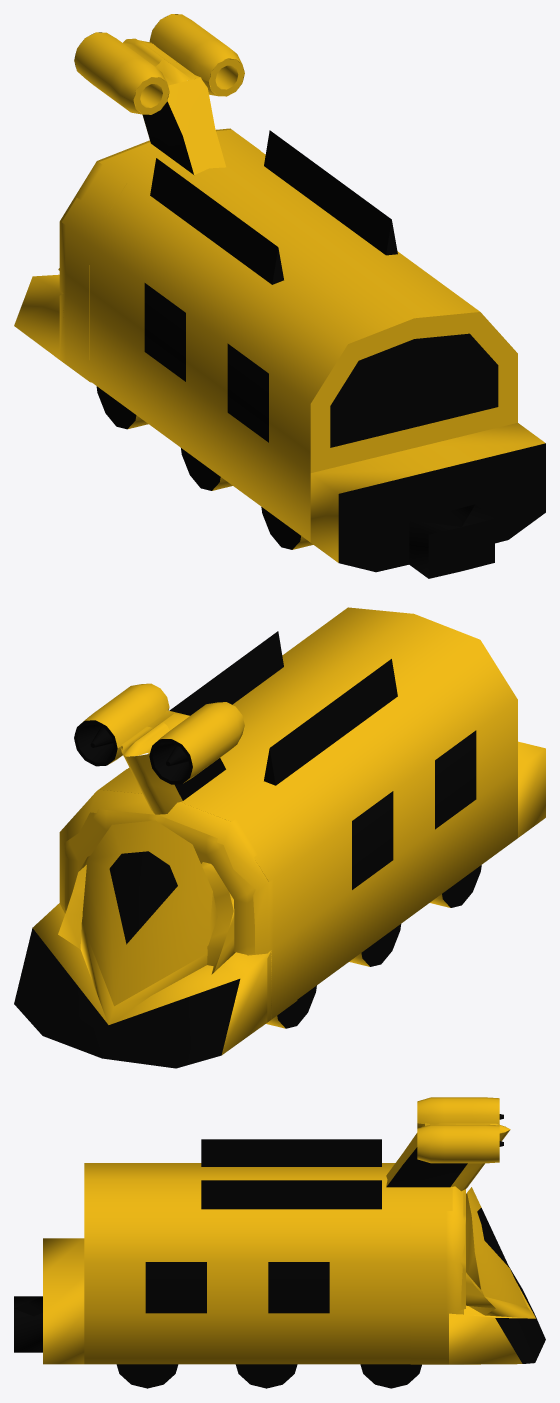
Rendered from jtrainJ.fbx.
3 views of the same model, one above another, from view 1: azimuth 30°, elevation 25°; view 2: azimuth 150°, elevation 25°; view 3: azimuth 270°, elevation 25° (orthographic). The views are drawn at different scales.
Visible parts, largest first — view 1: Default; view 2: Default; view 3: Default.
Boxes of the visible parts, box(x1,y1,x2,y2) form: Default: box(14, 14, 545, 578); Default: box(14, 607, 545, 1068); Default: box(14, 1097, 545, 1388).
Bounding box in the file's own units: 24.6 × 37.19 × 73.7.
